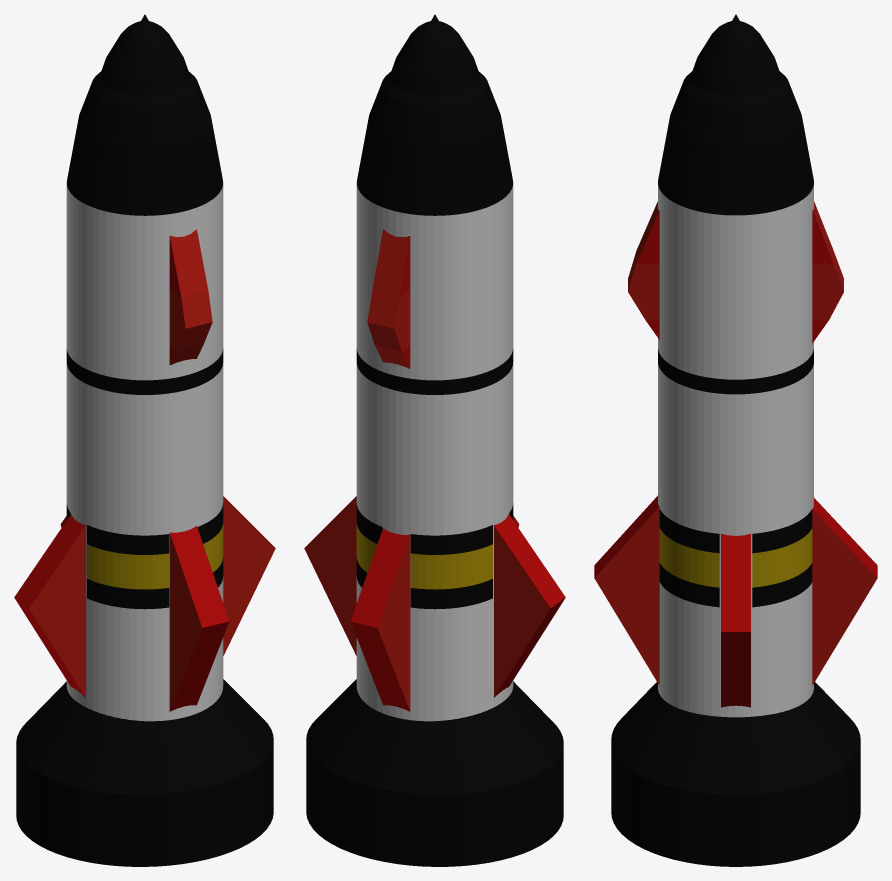
Rendered from missile.obj.
The picture shows the model from 3 angles, left to right: view 1: azimuth 30°, elevation 25°; view 2: azimuth 150°, elevation 25°; view 3: azimuth 270°, elevation 25°; orthographic projection.
Visible parts, largest first — view 1: Cylinder.003_Cylinder.004; view 2: Cylinder.003_Cylinder.004; view 3: Cylinder.003_Cylinder.004.
Part boxes in pixels (<box>): Cylinder.003_Cylinder.004: <box>14,14,275,866</box>; Cylinder.003_Cylinder.004: <box>304,14,565,866</box>; Cylinder.003_Cylinder.004: <box>594,14,877,866</box>.
Size of the model in its own units: 1.82 by 5.64 by 1.81.
